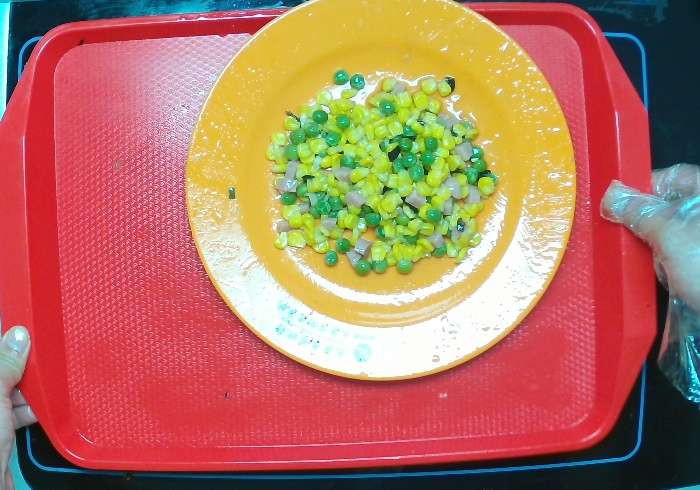YKMZ-Ju_Se_Mian_Pan: (162, 1, 586, 405)
